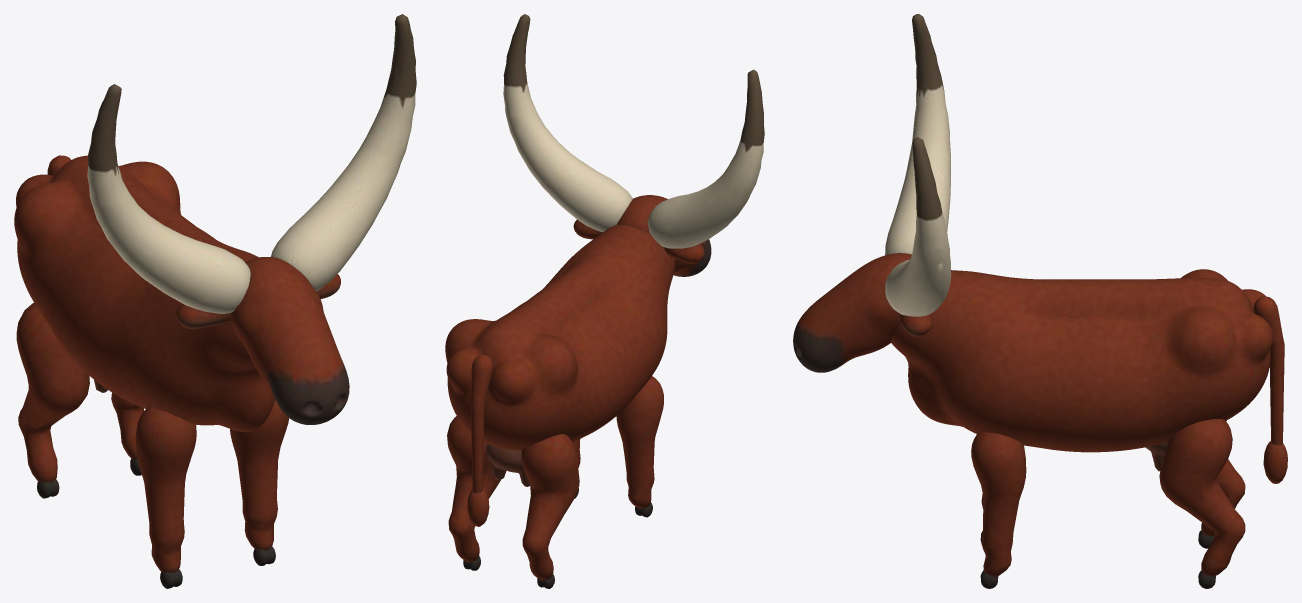
Rendered from animal_watusi.glb.
3 renders of one model, left to right at view 1: azimuth 30°, elevation 25°; view 2: azimuth 150°, elevation 25°; view 3: azimuth 270°, elevation 25°, orthographic. The views are drawn at different scales.
Visible parts, largest first — view 1: head, animal_watusi, leg2, leg0, leg1, leg3; view 2: animal_watusi, head, leg2, leg0, leg3, tail; view 3: animal_watusi, head, leg3, leg1, tail, leg2.
Part boxes in pixels (box(x1,y1,x2,y2)): head: box(87, 14, 416, 424); animal_watusi: box(14, 155, 275, 431); leg2: box(16, 303, 89, 498); leg0: box(135, 406, 196, 588); leg1: box(230, 399, 289, 565); leg3: box(111, 392, 143, 475); animal_watusi: box(445, 224, 675, 486); head: box(503, 14, 764, 276); leg2: box(521, 434, 579, 588); leg0: box(616, 376, 663, 517); leg3: box(447, 416, 501, 570); tail: box(467, 354, 493, 526); animal_watusi: box(891, 269, 1272, 471); head: box(793, 14, 951, 372); leg3: box(1159, 419, 1245, 588); leg1: box(971, 432, 1026, 588); tail: box(1253, 296, 1287, 483); leg2: box(1198, 420, 1245, 548).
Bounding box in the file's own units: 0.5439 × 0.8896 × 0.8125.
Materials: 1 (1 with a texture image).
